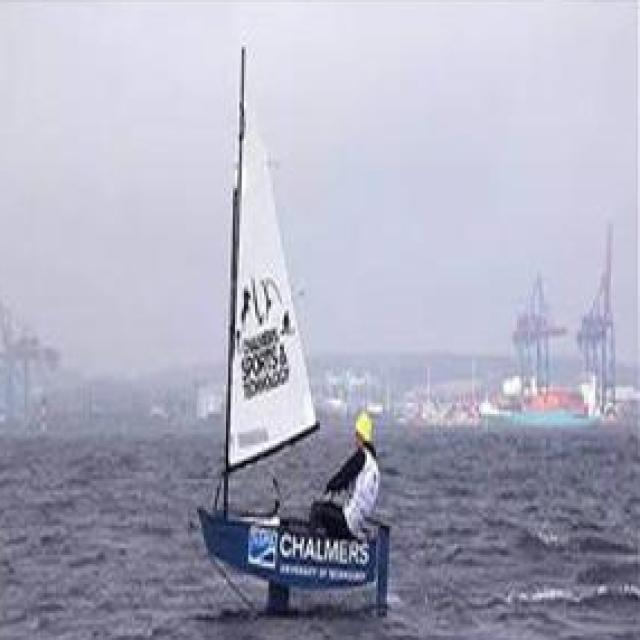sailboat: (193, 28, 399, 612)
